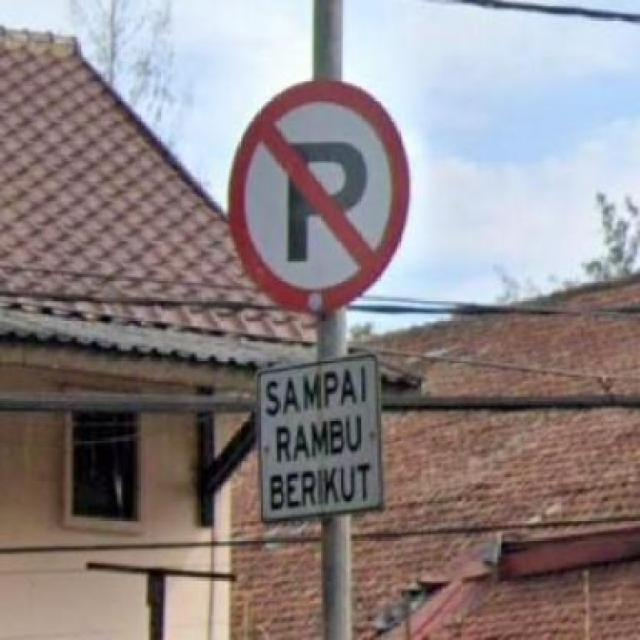no parking: (223, 74, 413, 320)
